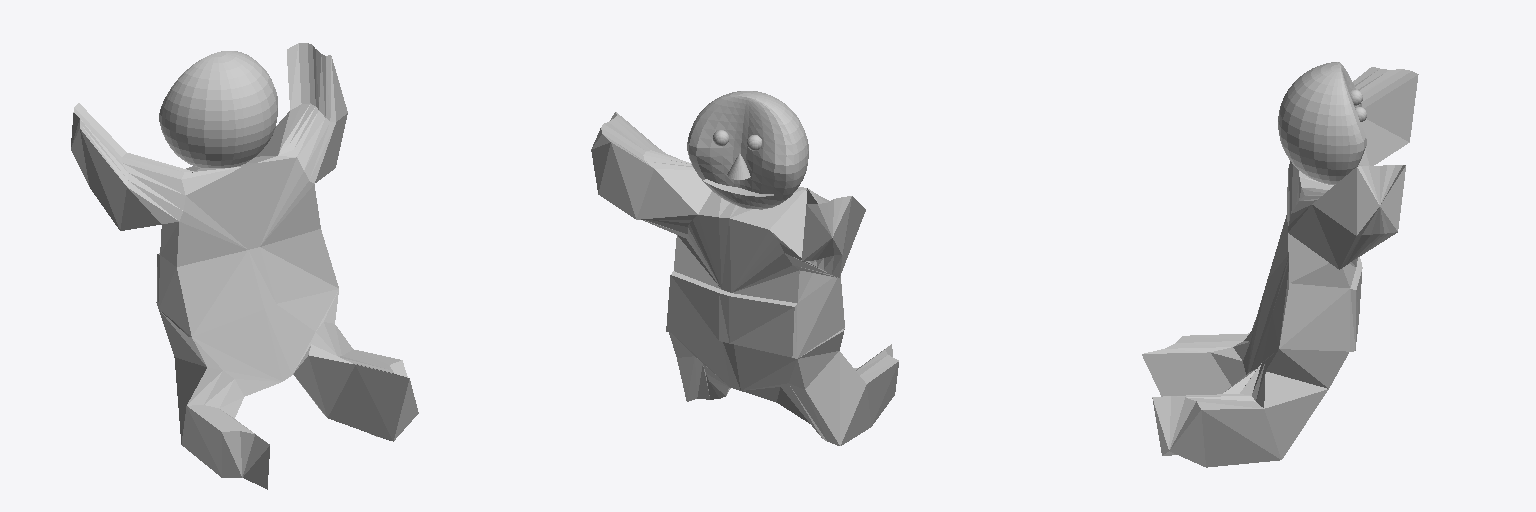
The model's file is manjump_000016.obj.
3 views of the same model, side by side, from view 1: azimuth 30°, elevation 25°; view 2: azimuth 150°, elevation 25°; view 3: azimuth 270°, elevation 25° (orthographic).
Parts seen in each view (by area): view 1: Cube; view 2: Cube; view 3: Cube.
Boxes of the visible parts, x1=… form: Cube: x1=71, y1=43, x2=418, y2=489; Cube: x1=591, y1=91, x2=898, y2=445; Cube: x1=1142, y1=62, x2=1418, y2=467.
Size of the model in its own units: 80.23 by 108 by 73.88.